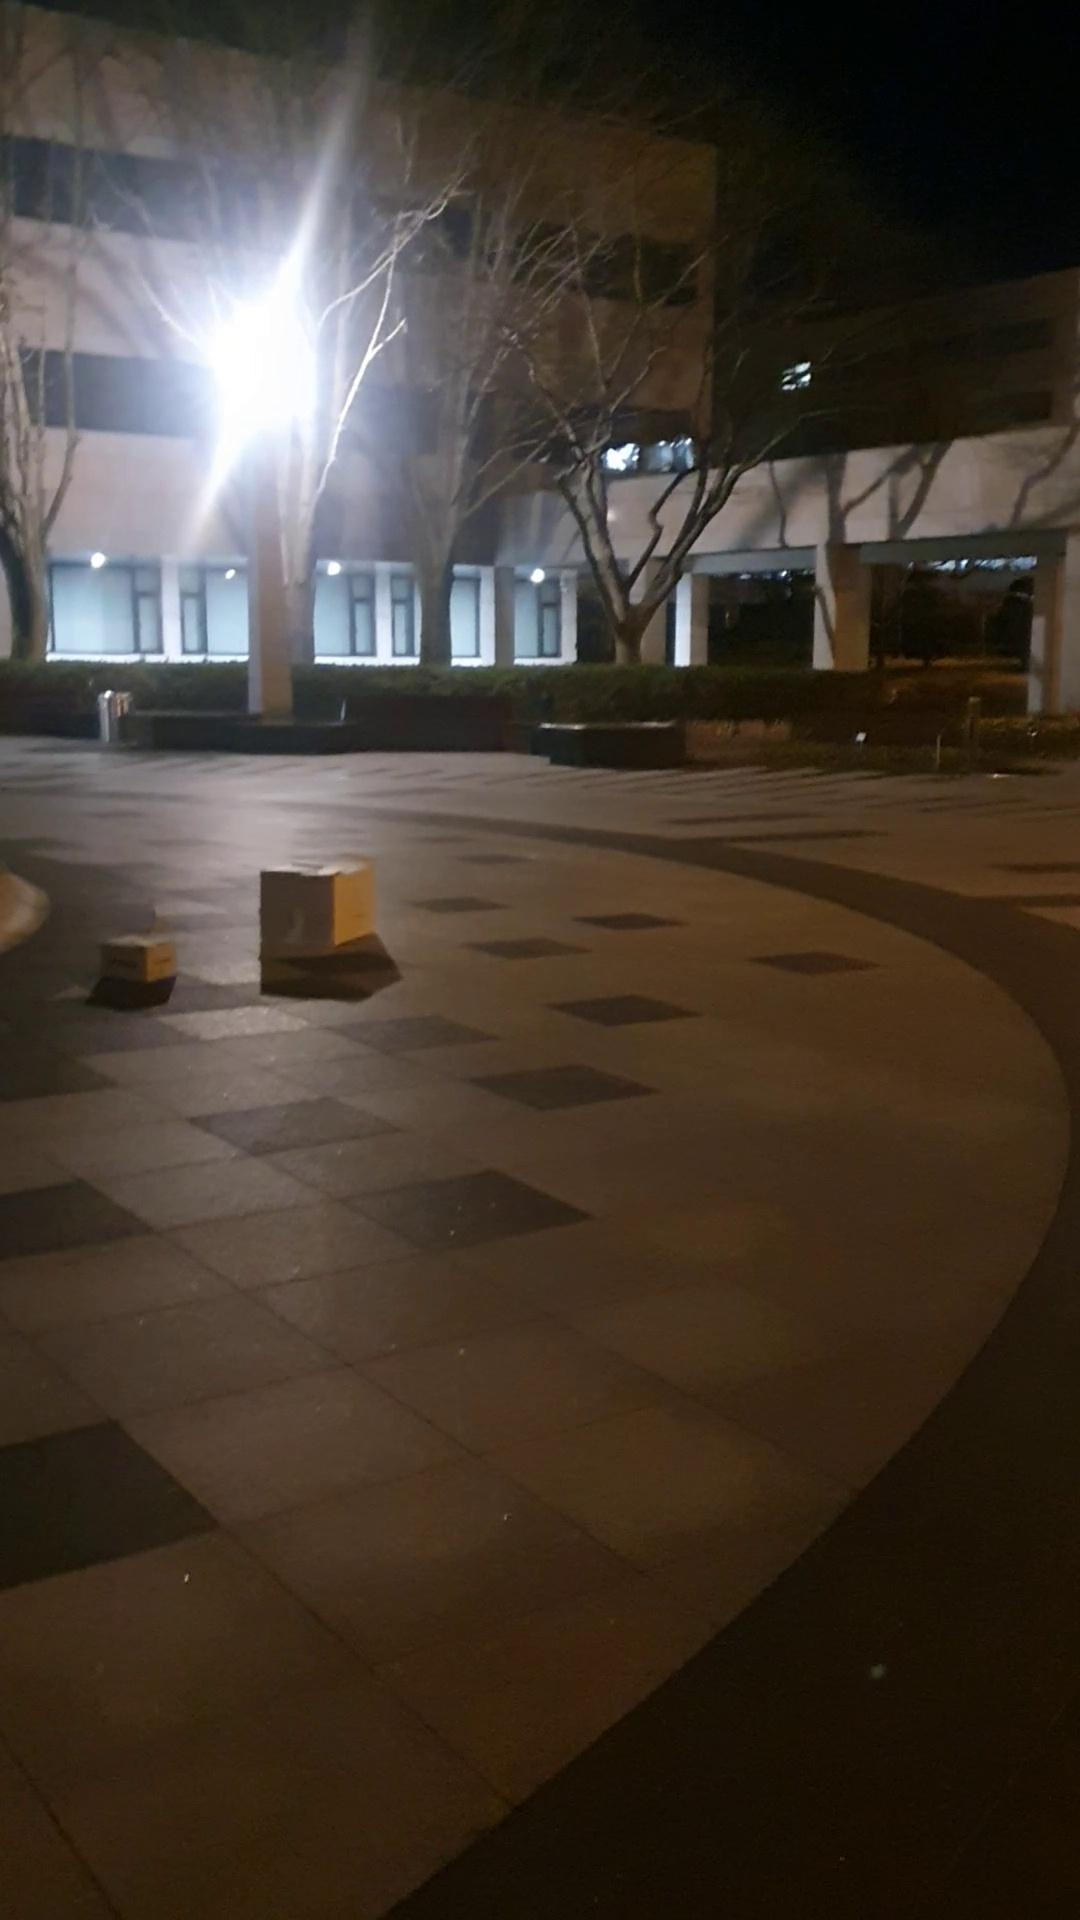Box: (247, 851, 363, 965), (91, 920, 167, 985)
